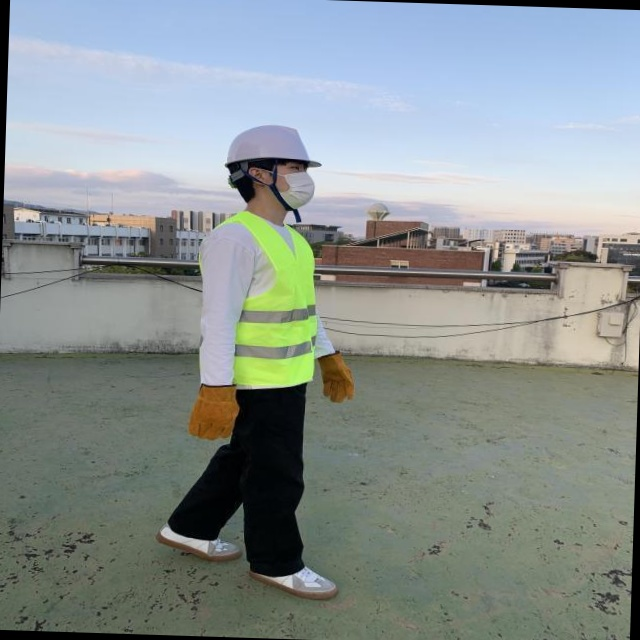boots: (390, 528, 478, 565), (291, 566, 384, 600)
gloves: (399, 385, 449, 445), (284, 352, 320, 406)
vest: (324, 214, 442, 389)
